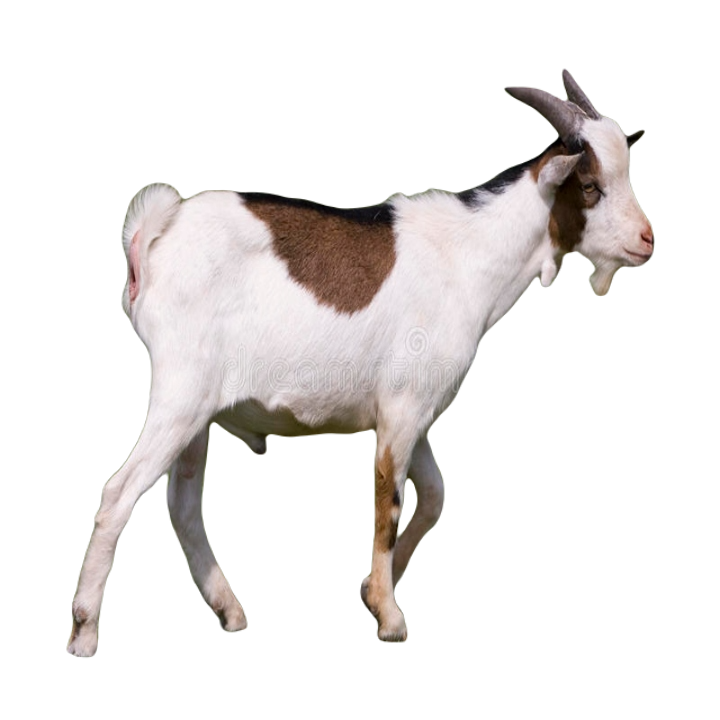Goat: (54, 66, 657, 656)
